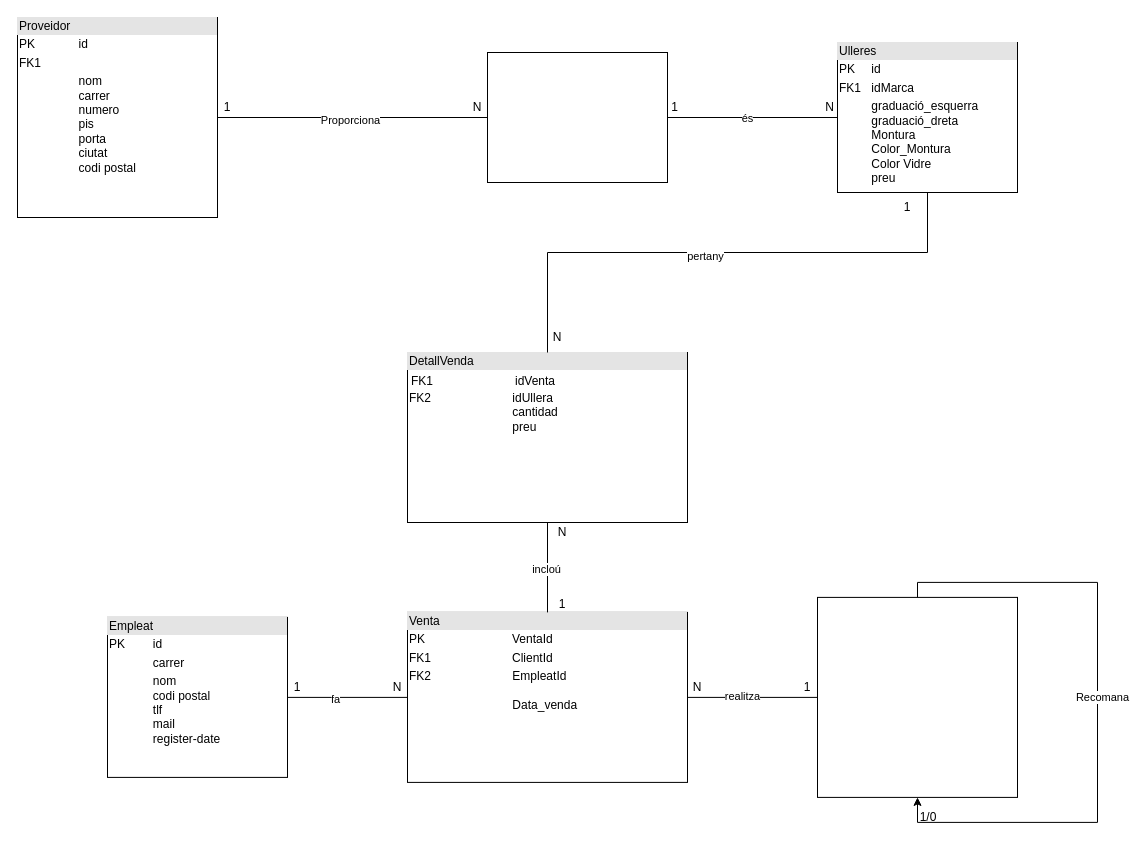
The diagram is 1146 pixels wide and 848 high, and some of its shapes have lost their labels. Here are the shapes that lost their labels. From the top down, the centre of each, then its label:
[577,117]: Marca PK id FK1 idProveidor nom
[917,696]: Client PK id FK1 idClientRecomanat nom codi postal tlf mail register-date
